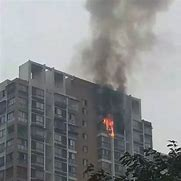smoke: (83, 1, 162, 115)
